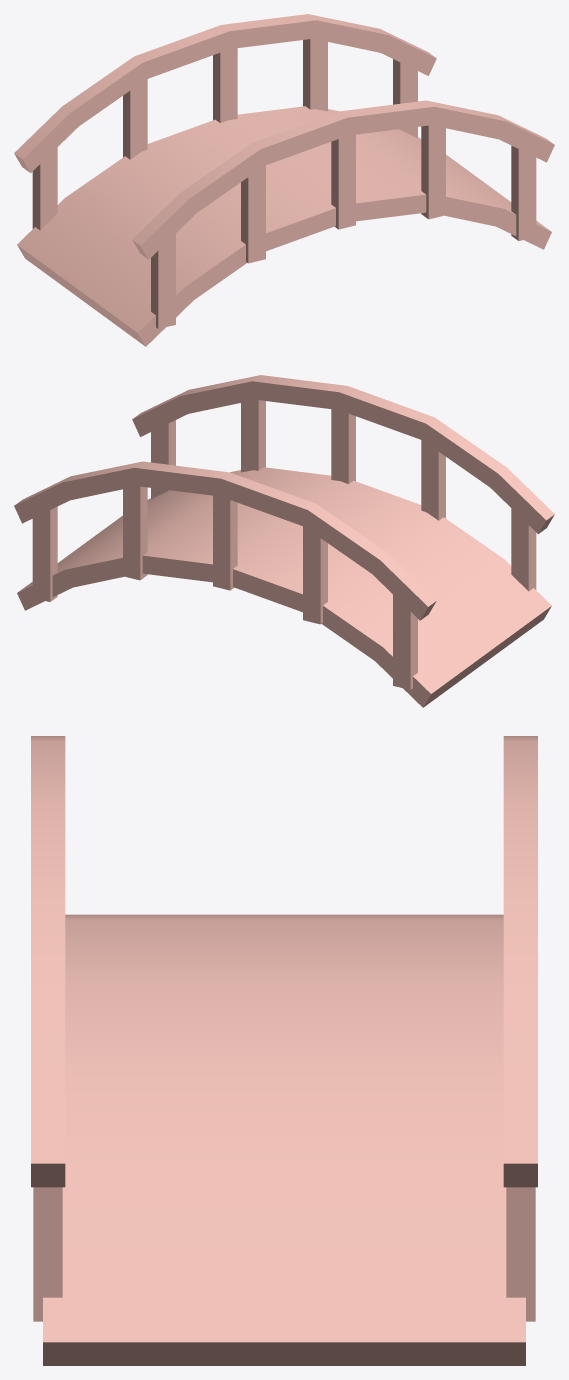
The model's file is Mega_Asset_s_Pack_Cube_259.FBX.
3 renders of one model, top to bottom at view 1: azimuth 30°, elevation 25°; view 2: azimuth 150°, elevation 25°; view 3: azimuth 270°, elevation 25°, orthographic. The views are drawn at different scales.
Parts seen in each view (by area): view 1: Mega_Asset_s_Pack_Cube_259; view 2: Mega_Asset_s_Pack_Cube_259; view 3: Mega_Asset_s_Pack_Cube_259.
Part boxes in pixels (x1=…): Mega_Asset_s_Pack_Cube_259: x1=14, y1=14, x2=554, y2=346; Mega_Asset_s_Pack_Cube_259: x1=14, y1=375, x2=554, y2=707; Mega_Asset_s_Pack_Cube_259: x1=31, y1=736, x2=537, y2=1365.
Size of what is drawn, in the model's own units: 618 by 327 by 261.
